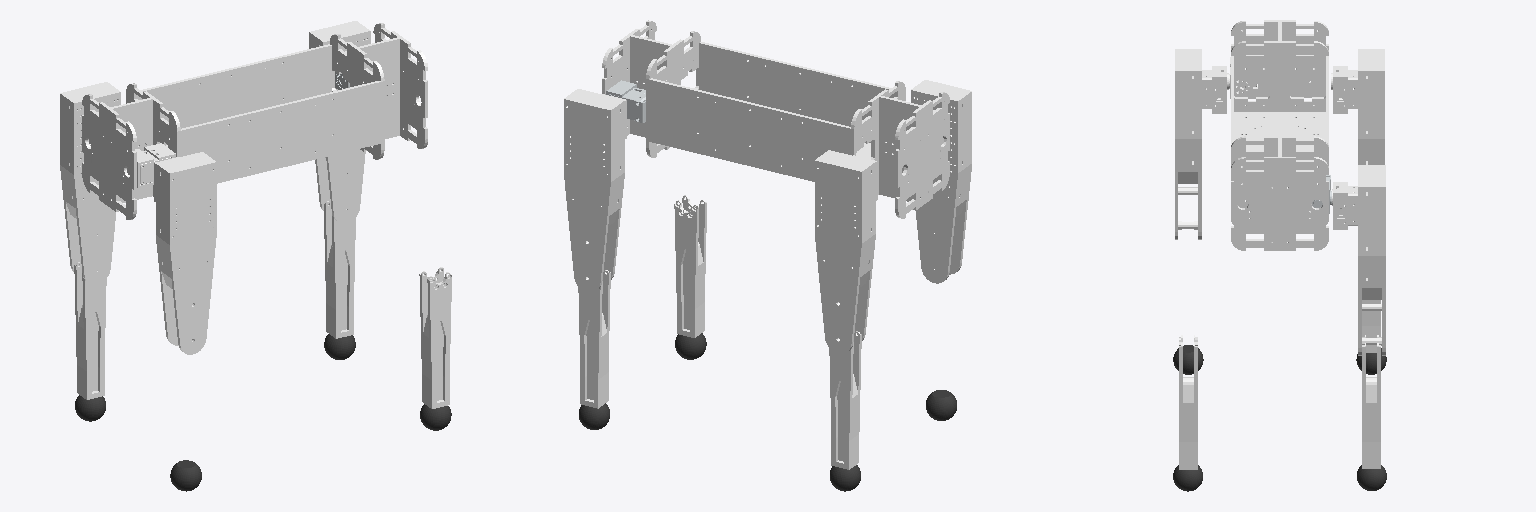
robot.urdf — GRD_URDF_v8_material:
<?xml version="1.0" encoding="utf-8"?>
<!-- This URDF was automatically created by SolidWorks to URDF Exporter! Originally created by [author] ([email redacted]) 
     Commit Version: 1.6.0-1-g15f4949  Build Version: 1.6.7594.29634
     For more information, please see http://wiki.ros.org/sw_urdf_exporter -->
<robot
  name="GRD_URDF_v8_material">
  <link
    name="base_footprint_link">
    <inertial>
      <origin
        xyz="-6.5684535257726E-07 -5.68625826943039E-16 0.331904075260688"
        rpy="0 0 0" />
      <mass
        value="0.94714877441203" />
      <inertia
        ixx="0.00156805076680093"
        ixy="-4.04417685042527E-18"
        ixz="-1.07156180552169E-09"
        iyy="0.00467978185671069"
        iyz="1.05204051443102E-18"
        izz="0.00464373853240198" />
    </inertial>
    <visual>
      <origin
        xyz="0 0 0"
        rpy="0 0 0" />
      <geometry>
        <mesh
          filename="package://GRD_URDF_v8_material/meshes/base_footprint_link.STL" />
      </geometry>
      <material
        name="">
        <color
          rgba="1 1 1 0.3" />
      </material>
    </visual>
    <collision>
      <origin
        xyz="0 0 0"
        rpy="0 0 0" />
      <geometry>
        <mesh
          filename="package://GRD_URDF_v8_material/meshes/base_footprint_link.STL" />
      </geometry>
    </collision>
  </link>
  <link
    name="base_link">
    <inertial>
      <origin
        xyz="-5.37004284930829E-07 -8.85973754038104E-16 0.0331211817986433"
        rpy="0 0 0" />
      <mass
        value="1.15852013355761" />
      <inertia
        ixx="0.00161866128869471"
        ixy="-4.05306861158348E-18"
        ixz="-1.07156180552086E-09"
        iyy="0.00471344940362746"
        iyz="1.05084288143918E-18"
        izz="0.00470124275078615" />
    </inertial>
    <visual>
      <origin
        xyz="0 0 0"
        rpy="0 0 0" />
      <geometry>
        <mesh
          filename="package://GRD_URDF_v8_material/meshes/base_link.STL" />
      </geometry>
      <material
        name="">
        <color
          rgba="1 1 1 0.3" />
      </material>
    </visual>
    <collision>
      <origin
        xyz="0 0 0"
        rpy="0 0 0" />
      <geometry>
        <mesh
          filename="package://GRD_URDF_v8_material/meshes/base_link.STL" />
      </geometry>
    </collision>
  </link>
  <joint
    name="base_link_joint"
    type="fixed">
    <origin
      xyz="0 0 0.3"
      rpy="0 0 0" />
    <parent
      link="base_footprint_link" />
    <child
      link="base_link" />
    <axis
      xyz="0 0 0" />
  </joint>
  <link
    name="FR1_link">
    <inertial>
      <origin
        xyz="0.024784 -1.0469E-05 -2.2229E-05"
        rpy="0 0 0" />
      <mass
        value="0.067553" />
      <inertia
        ixx="1.2584E-05"
        ixy="9.7813E-08"
        ixz="-1.6315E-08"
        iyy="1.514E-05"
        iyz="-4.0759E-09"
        izz="1.7075E-05" />
    </inertial>
    <visual>
      <origin
        xyz="0 0 0"
        rpy="0 0 0" />
      <geometry>
        <mesh
          filename="package://GRD_URDF_v8_material/meshes/FR1_link.STL" />
      </geometry>
      <material
        name="">
        <color
          rgba="0.89804 0.91765 0.92941 1" />
      </material>
    </visual>
    <collision>
      <origin
        xyz="0 0 0"
        rpy="0 0 0" />
      <geometry>
        <mesh
          filename="package://GRD_URDF_v8_material/meshes/FR1_link.STL" />
      </geometry>
    </collision>
  </link>
  <joint
    name="motor_front_right_hip"
    type="revolute">
    <origin
      xyz="0.1579 -0.0491 0.0385"
      rpy="0 0 0" />
    <parent
      link="base_link" />
    <child
      link="FR1_link" />
    <axis
      xyz="1 0 0" />
    <limit
      lower="-1.04"
      upper="1.04"
      effort="1000"
      velocity="0.7" />
  </joint>
  <link
    name="FR2_link">
    <inertial>
      <origin
        xyz="4.3562E-06 -0.039485 -0.070702"
        rpy="0 0 0" />
      <mass
        value="0.39532" />
      <inertia
        ixx="0.0016371"
        ixy="-1.4579E-08"
        ixz="6.2884E-08"
        iyy="0.0017598"
        iyz="-2.364E-05"
        izz="0.00015914" />
    </inertial>
    <visual>
      <origin
        xyz="0 0 0"
        rpy="0 0 0" />
      <geometry>
        <mesh
          filename="package://GRD_URDF_v8_material/meshes/FR2_link.STL" />
      </geometry>
      <material
        name="">
        <color
          rgba="1 1 1 1" />
      </material>
    </visual>
    <collision>
      <origin
        xyz="0 0 0"
        rpy="0 0 0" />
      <geometry>
        <mesh
          filename="package://GRD_URDF_v8_material/meshes/FR2_link.STL" />
      </geometry>
    </collision>
  </link>
  <joint
    name="motor_front_right_upper_leg"
    type="revolute">
    <origin
      xyz="0.0361 -0.0233999999999976 0"
      rpy="0 0 0" />
    <parent
      link="FR1_link" />
    <child
      link="FR2_link" />
    <axis
      xyz="0 1 0" />
    <limit
      lower="-1.571"
      upper="2.59"
      effort="1000"
      velocity="0.7" />
  </joint>
  <link
    name="FR3_link">
    <inertial>
      <origin
        xyz="3.7529E-08 -0.0074017 -0.10236"
        rpy="0 0 0" />
      <mass
        value="0.090352" />
      <inertia
        ixx="0.00022227"
        ixy="1.0154E-11"
        ixz="2.7851E-10"
        iyy="0.00022376"
        iyz="1.6738E-08"
        izz="1.1523E-05" />
    </inertial>
    <visual>
      <origin
        xyz="0 0 0"
        rpy="0 0 0" />
      <geometry>
        <mesh
          filename="package://GRD_URDF_v8_material/meshes/FR3_link.STL" />
      </geometry>
      <material
        name="">
        <color
          rgba="1 1 1 1" />
      </material>
    </visual>
    <collision>
      <origin
        xyz="0 0 0"
        rpy="0 0 0" />
      <geometry>
        <mesh
          filename="package://GRD_URDF_v8_material/meshes/FR3_link.STL" />
      </geometry>
    </collision>
  </link>
  <joint
    name="motor_front_right_lower_leg"
    type="revolute">
    <origin
      xyz="0 -0.0413999999999994 -0.209999999999993"
      rpy="0 0 0" />
    <parent
      link="FR2_link" />
    <child
      link="FR3_link" />
    <axis
      xyz="0 -1 0" />
    <limit
      lower="-2.9"
      upper="1.671"
      effort="1000"
      velocity="0.7" />
  </joint>
  <link
    name="front_right_foot">
    <inertial>
      <origin
        xyz="-6.6613E-16 1.4433E-15 0.0015002"
        rpy="0 0 0" />
      <mass
        value="0.032571" />
      <inertia
        ixx="5.047E-06"
        ixy="-5.0734E-22"
        ixz="1.352E-22"
        iyy="5.0467E-06"
        iyz="-1.4225E-21"
        izz="5.3157E-06" />
    </inertial>
    <visual>
      <origin
        xyz="0 0 0"
        rpy="0 0 0" />
      <geometry>
        <mesh
          filename="package://GRD_URDF_v8_material/meshes/front_right_foot.STL" />
      </geometry>
      <material
        name="">
        <color
          rgba="0.29804 0.29804 0.29804 1" />
      </material>
    </visual>
    <collision>
      <origin
        xyz="0 0 0"
        rpy="0 0 0" />
      <geometry>
        <mesh
          filename="package://GRD_URDF_v8_material/meshes/front_right_foot.STL" />
      </geometry>
    </collision>
  </link>
  <joint
    name="front_right_leg_foot"
    type="fixed">
    <origin
      xyz="0 -0.00739999999999999 -0.198000586455477"
      rpy="0 0 0" />
    <parent
      link="FR3_link" />
    <child
      link="front_right_foot" />
    <axis
      xyz="0 0 0" />
  </joint>
  <link
    name="FL4_link">
    <inertial>
      <origin
        xyz="0.0247841447425314 1.04692997031988E-05 2.22286183791942E-05"
        rpy="0 0 0" />
      <mass
        value="0.0675532787220811" />
      <inertia
        ixx="1.25839581231577E-05"
        ixy="-9.78129344167742E-08"
        ixz="1.63152405935888E-08"
        iyy="1.5140307434958E-05"
        iyz="-4.07589457904991E-09"
        izz="1.70746458531424E-05" />
    </inertial>
    <visual>
      <origin
        xyz="0 0 0"
        rpy="0 0 0" />
      <geometry>
        <mesh
          filename="package://GRD_URDF_v8_material/meshes/FL4_link.STL" />
      </geometry>
      <material
        name="">
        <color
          rgba="0.898039215686275 0.917647058823529 0.929411764705882 1" />
      </material>
    </visual>
    <collision>
      <origin
        xyz="0 0 0"
        rpy="0 0 0" />
      <geometry>
        <mesh
          filename="package://GRD_URDF_v8_material/meshes/FL4_link.STL" />
      </geometry>
    </collision>
  </link>
  <joint
    name="motor_front_left_hip"
    type="revolute">
    <origin
      xyz="0.1579 0.0490999999999959 0.0387999999999899"
      rpy="0 0 0" />
    <parent
      link="base_link" />
    <child
      link="FL4_link" />
    <axis
      xyz="1 0 0" />
    <limit
      lower="-1.04"
      upper="1.04"
      effort="1000"
      velocity="0.7" />
  </joint>
  <link
    name="FL5_link">
    <inertial>
      <origin
        xyz="-4.35616069133227E-06 0.0394850128833005 -0.0707022962699911"
        rpy="0 0 0" />
      <mass
        value="0.395321397887757" />
      <inertia
        ixx="0.00163713814608113"
        ixy="-1.45788089578397E-08"
        ixz="-6.28841253115549E-08"
        iyy="0.00175975062383322"
        iyz="2.36404618665139E-05"
        izz="0.000159141442838076" />
    </inertial>
    <visual>
      <origin
        xyz="0 0 0"
        rpy="0 0 0" />
      <geometry>
        <mesh
          filename="package://GRD_URDF_v8_material/meshes/FL5_link.STL" />
      </geometry>
      <material
        name="">
        <color
          rgba="1 1 1 1" />
      </material>
    </visual>
    <collision>
      <origin
        xyz="0 0 0"
        rpy="0 0 0" />
      <geometry>
        <mesh
          filename="package://GRD_URDF_v8_material/meshes/FL5_link.STL" />
      </geometry>
    </collision>
  </link>
  <joint
    name="motor_front_left_upper_leg"
    type="revolute">
    <origin
      xyz="0.0360999999999954 0.0234000000000044 0"
      rpy="0 0 0" />
    <parent
      link="FL4_link" />
    <child
      link="FL5_link" />
    <axis
      xyz="0 -1 0" />
    <limit
      lower="-1.571"
      upper="2.59"
      effort="1000"
      velocity="0.7" />
  </joint>
  <link
    name="FL6_link">
    <inertial>
      <origin
        xyz="3.75285352793853E-08 0.00739826798017804 -0.102361671813913"
        rpy="0 0 0" />
      <mass
        value="0.0903520455444552" />
      <inertia
        ixx="0.000222269756294016"
        ixy="1.01536103196166E-11"
        ixz="2.78508257222559E-10"
        iyy="0.000223759447255601"
        iyz="1.67376488552958E-08"
        izz="1.15226778599831E-05" />
    </inertial>
    <visual>
      <origin
        xyz="0 0 0"
        rpy="0 0 0" />
      <geometry>
        <mesh
          filename="package://GRD_URDF_v8_material/meshes/FL6_link.STL" />
      </geometry>
      <material
        name="">
        <color
          rgba="1 1 1 1" />
      </material>
    </visual>
    <collision>
      <origin
        xyz="0 0 0"
        rpy="0 0 0" />
      <geometry>
        <mesh
          filename="package://GRD_URDF_v8_material/meshes/FL6_link.STL" />
      </geometry>
    </collision>
  </link>
  <joint
    name="motor_front_left_lower_leg"
    type="revolute">
    <origin
      xyz="0 0.0414000000000007 -0.209999999999995"
      rpy="0 0 0" />
    <parent
      link="FL5_link" />
    <child
      link="FL6_link" />
    <axis
      xyz="0 1 0" />
    <limit
      lower="-2.9"
      upper="1.671"
      effort="1000"
      velocity="0.7" />
  </joint>
  <link
    name="front_left_foot">
    <inertial>
      <origin
        xyz="2.77555756156289E-17 3.60822483003176E-16 0.00150018449078348"
        rpy="0 0 0" />
      <mass
        value="0.0325711189299211" />
      <inertia
        ixx="5.04695257424751E-06"
        ixy="-4.8959115759098E-24"
        ixz="-1.98212390450565E-21"
        iyy="5.04670813748758E-06"
        iyz="6.91248630705877E-22"
        izz="5.31572382785122E-06" />
    </inertial>
    <visual>
      <origin
        xyz="0 0 0"
        rpy="0 0 0" />
      <geometry>
        <mesh
          filename="package://GRD_URDF_v8_material/meshes/front_left_foot.STL" />
      </geometry>
      <material
        name="">
        <color
          rgba="0.298039215686275 0.298039215686275 0.298039215686275 1" />
      </material>
    </visual>
    <collision>
      <origin
        xyz="0 0 0"
        rpy="0 0 0" />
      <geometry>
        <mesh
          filename="package://GRD_URDF_v8_material/meshes/front_left_foot.STL" />
      </geometry>
    </collision>
  </link>
  <joint
    name="front_left_leg_foot"
    type="fixed">
    <origin
      xyz="0 0.00740000000000136 -0.198000586455477"
      rpy="0 0 0" />
    <parent
      link="FL6_link" />
    <child
      link="front_left_foot" />
    <axis
      xyz="0 0 0" />
  </joint>
  <link
    name="RR7_link">
    <inertial>
      <origin
        xyz="-0.0236063085699754 0.000631885494629253 6.84388656857493E-12"
        rpy="0 0 0" />
      <mass
        value="0.073619269309767" />
      <inertia
        ixx="1.46576594061014E-05"
        ixy="4.64656371603288E-08"
        ixz="-3.57441089268569E-08"
        iyy="1.73197677200056E-05"
        iyz="3.92112851912774E-10"
        izz="1.81046682669036E-05" />
    </inertial>
    <visual>
      <origin
        xyz="0 0 0"
        rpy="0 0 0" />
      <geometry>
        <mesh
          filename="package://GRD_URDF_v8_material/meshes/RR7_link.STL" />
      </geometry>
      <material
        name="">
        <color
          rgba="1 1 1 1" />
      </material>
    </visual>
    <collision>
      <origin
        xyz="0 0 0"
        rpy="0 0 0" />
      <geometry>
        <mesh
          filename="package://GRD_URDF_v8_material/meshes/RR7_link.STL" />
      </geometry>
    </collision>
  </link>
  <joint
    name="motor_back_right_hip"
    type="revolute">
    <origin
      xyz="-0.157900000000004 -0.0491000000000027 0.0384999999999962"
      rpy="0 0 0" />
    <parent
      link="base_link" />
    <child
      link="RR7_link" />
    <axis
      xyz="-1 0 0" />
    <limit
      lower="-1.04"
      upper="1.04"
      effort="1000"
      velocity="0.7" />
  </joint>
  <link
    name="RR8_link">
    <inertial>
      <origin
        xyz="4.35616069077716E-06 -0.0394850128832991 -0.0707022962699928"
        rpy="0 0 0" />
      <mass
        value="0.395321397887757" />
      <inertia
        ixx="0.00163713814608113"
        ixy="-1.45788089571798E-08"
        ixz="6.28841253106135E-08"
        iyy="0.00175975062383322"
        iyz="-2.36404618665226E-05"
        izz="0.000159141442838076" />
    </inertial>
    <visual>
      <origin
        xyz="0 0 0"
        rpy="0 0 0" />
      <geometry>
        <mesh
          filename="package://GRD_URDF_v8_material/meshes/RR8_link.STL" />
      </geometry>
      <material
        name="">
        <color
          rgba="1 1 1 1" />
      </material>
    </visual>
    <collision>
      <origin
        xyz="0 0 0"
        rpy="0 0 0" />
      <geometry>
        <mesh
          filename="package://GRD_URDF_v8_material/meshes/RR8_link.STL" />
      </geometry>
    </collision>
  </link>
  <joint
    name="motor_back_right_upper_leg"
    type="revolute">
    <origin
      xyz="-0.0128499999999998 -0.0230999999999985 0"
      rpy="0 0 0" />
    <parent
      link="RR7_link" />
    <child
      link="RR8_link" />
    <axis
      xyz="0 1 0" />
    <limit
      lower="-1.571"
      upper="2.59"
      effort="1000"
      velocity="0.7" />
  </joint>
  <link
    name="RR9_link">
    <inertial>
      <origin
        xyz="3.75285321152496E-08 -0.00740173201982233 -0.102361671813917"
        rpy="0 0 0" />
      <mass
        value="0.0903520455444551" />
      <inertia
        ixx="0.000222269756294015"
        ixy="1.01536103203937E-11"
        ixz="2.78508257250272E-10"
        iyy="0.0002237594472556"
        iyz="1.67376488552685E-08"
        izz="1.15226778599831E-05" />
    </inertial>
    <visual>
      <origin
        xyz="0 0 0"
        rpy="0 0 0" />
      <geometry>
        <mesh
          filename="package://GRD_URDF_v8_material/meshes/RR9_link.STL" />
      </geometry>
      <material
        name="">
        <color
          rgba="1 1 1 1" />
      </material>
    </visual>
    <collision>
      <origin
        xyz="0 0 0"
        rpy="0 0 0" />
      <geometry>
        <mesh
          filename="package://GRD_URDF_v8_material/meshes/RR9_link.STL" />
      </geometry>
    </collision>
  </link>
  <joint
    name="motor_back_right_lower_leg"
    type="revolute">
    <origin
      xyz="0 -0.0413999999999989 -0.209999999999994"
      rpy="0 0 0" />
    <parent
      link="RR8_link" />
    <child
      link="RR9_link" />
    <axis
      xyz="0 -1 0" />
    <limit
      lower="-2.9"
      upper="1.671"
      effort="1000"
      velocity="0.7" />
  </joint>
  <link
    name="back_right_foot">
    <inertial>
      <origin
        xyz="-7.11097847272413E-14 -0.242000000000003 0.00150018449077555"
        rpy="0 0 0" />
      <mass
        value="0.032571118929921" />
      <inertia
        ixx="5.0469525742475E-06"
        ixy="2.1327978782839E-21"
        ixz="-1.6668475799677E-21"
        iyy="5.04670813748758E-06"
        iyz="-1.71150747579276E-21"
        izz="5.31572382785121E-06" />
    </inertial>
    <visual>
      <origin
        xyz="0 0 0"
        rpy="0 0 0" />
      <geometry>
        <mesh
          filename="package://GRD_URDF_v8_material/meshes/back_right_foot.STL" />
      </geometry>
      <material
        name="">
        <color
          rgba="0.298039215686275 0.298039215686275 0.298039215686275 1" />
      </material>
    </visual>
    <collision>
      <origin
        xyz="0 0 0"
        rpy="0 0 0" />
      <geometry>
        <mesh
          filename="package://GRD_URDF_v8_material/meshes/back_right_foot.STL" />
      </geometry>
    </collision>
  </link>
  <joint
    name="back_right_leg_foot"
    type="fixed">
    <origin
      xyz="0 0.234600000000003 -0.198000586455473"
      rpy="0 0 0" />
    <parent
      link="RR9_link" />
    <child
      link="back_right_foot" />
    <axis
      xyz="0 0 0" />
  </joint>
  <link
    name="RL10_link">
    <inertial>
      <origin
        xyz="-0.0236063085699692 -0.00063188549463164 -6.82938428031576E-12"
        rpy="0 0 0" />
      <mass
        value="0.073619269309767" />
      <inertia
        ixx="1.46576594061014E-05"
        ixy="-4.64656371603235E-08"
        ixz="3.57441089268562E-08"
        iyy="1.73197677200056E-05"
        iyz="3.92112851920474E-10"
        izz="1.81046682669036E-05" />
    </inertial>
    <visual>
      <origin
        xyz="0 0 0"
        rpy="0 0 0" />
      <geometry>
        <mesh
          filename="package://GRD_URDF_v8_material/meshes/RL10_link.STL" />
      </geometry>
      <material
        name="">
        <color
          rgba="1 1 1 1" />
      </material>
    </visual>
    <collision>
      <origin
        xyz="0 0 0"
        rpy="0 0 0" />
      <geometry>
        <mesh
          filename="package://GRD_URDF_v8_material/meshes/RL10_link.STL" />
      </geometry>
    </collision>
  </link>
  <joint
    name="motor_back_left_hip"
    type="revolute">
    <origin
      xyz="-0.157900000000008 0.0491000000000026 0.0384999999999878"
      rpy="0 0 0" />
    <parent
      link="base_link" />
    <child
      link="RL10_link" />
    <axis
      xyz="-1 0 0" />
    <limit
      lower="-1.04"
      upper="1.04"
      effort="1000"
      velocity="0.7" />
  </joint>
  <link
    name="RL11_link">
    <inertial>
      <origin
        xyz="-4.35616068608646E-06 0.0394850128832992 -0.0707022962699932"
        rpy="0 0 0" />
      <mass
        value="0.395321397887756" />
      <inertia
        ixx="0.00163713814608113"
        ixy="-1.45788089564926E-08"
        ixz="-6.28841253096486E-08"
        iyy="0.00175975062383321"
        iyz="2.364046186652E-05"
        izz="0.000159141442838075" />
    </inertial>
    <visual>
      <origin
        xyz="0 0 0"
        rpy="0 0 0" />
      <geometry>
        <mesh
          filename="package://GRD_URDF_v8_material/meshes/RL11_link.STL" />
      </geometry>
      <material
        name="">
        <color
          rgba="1 1 1 0.3" />
      </material>
    </visual>
    <collision>
      <origin
        xyz="0 0 0"
        rpy="0 0 0" />
      <geometry>
        <mesh
          filename="package://GRD_URDF_v8_material/meshes/RL11_link.STL" />
      </geometry>
    </collision>
  </link>
  <joint
    name="motor_back_left_upper_leg"
    type="revolute">
    <origin
      xyz="-0.0128500000000024 0.0230999999999986 0"
      rpy="0 0 0" />
    <parent
      link="RL10_link" />
    <child
      link="RL11_link" />
    <axis
      xyz="0 -1 0" />
    <limit
      lower="-1.571"
      upper="2.59"
      effort="1000"
      velocity="0.7" />
  </joint>
  <link
    name="RL12_link">
    <inertial>
      <origin
        xyz="3.75285400533443E-08 0.00739826798017364 -0.10236167181392"
        rpy="0 0 0" />
      <mass
        value="0.090352045544455" />
      <inertia
        ixx="0.000222269756294015"
        ixy="1.01536103178863E-11"
        ixz="2.78508257228715E-10"
        iyy="0.0002237594472556"
        iyz="1.67376488553293E-08"
        izz="1.15226778599831E-05" />
    </inertial>
    <visual>
      <origin
        xyz="0 0 0"
        rpy="0 0 0" />
      <geometry>
        <mesh
          filename="package://GRD_URDF_v8_material/meshes/RL12_link.STL" />
      </geometry>
      <material
        name="">
        <color
          rgba="1 1 1 1" />
      </material>
    </visual>
    <collision>
      <origin
        xyz="0 0 0"
        rpy="0 0 0" />
      <geometry>
        <mesh
          filename="package://GRD_URDF_v8_material/meshes/RL12_link.STL" />
      </geometry>
    </collision>
  </link>
  <joint
    name="motor_back_left_lower_leg"
    type="revolute">
    <origin
      xyz="0 0.0414000000000018 -0.209999999999994"
      rpy="0 0 0" />
    <parent
      link="RL11_link" />
    <child
      link="RL12_link" />
    <axis
      xyz="0 1 0" />
    <limit
      lower="-2.9"
      upper="1.671"
      effort="1000"
      velocity="0.7" />
  </joint>
  <link
    name="back_left_foot">
    <inertial>
      <origin
        xyz="4.6074255521944E-15 -4.7045700668491E-15 0.00150018449077621"
        rpy="0 0 0" />
      <mass
        value="0.0325711189299211" />
      <inertia
        ixx="5.04695257424751E-06"
        ixy="3.22003305032137E-22"
        ixz="-6.305518543915E-22"
        iyy="5.04670813748758E-06"
        iyz="9.63773792640485E-22"
        izz="5.31572382785122E-06" />
    </inertial>
    <visual>
      <origin
        xyz="0 0 0"
        rpy="0 0 0" />
      <geometry>
        <mesh
          filename="package://GRD_URDF_v8_material/meshes/back_left_foot.STL" />
      </geometry>
      <material
        name="">
        <color
          rgba="0.298039215686275 0.298039215686275 0.298039215686275 1" />
      </material>
    </visual>
    <collision>
      <origin
        xyz="0 0 0"
        rpy="0 0 0" />
      <geometry>
        <mesh
          filename="package://GRD_URDF_v8_material/meshes/back_left_foot.STL" />
      </geometry>
    </collision>
  </link>
  <joint
    name="back_left_leg_foot"
    type="fixed">
    <origin
      xyz="0 0.00739999999999999 -0.198000586455477"
      rpy="0 0 0" />
    <parent
      link="RL12_link" />
    <child
      link="back_left_foot" />
    <axis
      xyz="0 0 0" />
  </joint>
</robot>

--- What the picture shows (computed from the rendered views, not written in the file) ---
The picture shows the robot from 3 angles, left to right: view 1: azimuth 30°, elevation 25°; view 2: azimuth 150°, elevation 25°; view 3: azimuth 270°, elevation 25°; orthographic projection.
Model GRD_URDF_v8_material with 18 links and 17 joints (12 revolute, 5 fixed), rooted at base_footprint_link, posed every joint at zero.
Visible links, largest first — view 1: base_footprint_link, RR8_link, RL11_link, FR3_link, FL5_link, RL12_link, FL6_link, RR7_link, back_right_foot, front_right_foot, front_left_foot, back_left_foot; view 2: base_footprint_link, FL5_link, RL11_link, RR8_link, FR3_link, FL6_link, RL12_link, FL4_link, back_right_foot, front_right_foot, front_left_foot, back_left_foot; view 3: base_footprint_link, FL5_link, RR8_link, RL11_link, FR3_link, FL6_link, RL12_link, front_left_foot, front_right_foot, RR7_link.
Link boxes in pixels (x1,y1,x2,y2): base_footprint_link: (82, 23, 427, 219); RR8_link: (154, 152, 216, 354); RL11_link: (60, 82, 120, 284); FR3_link: (419, 267, 451, 408); FL5_link: (309, 21, 370, 223); RL12_link: (74, 262, 106, 399); FL6_link: (324, 201, 355, 338); RR7_link: (127, 143, 175, 187); back_right_foot: (170, 460, 201, 491); front_right_foot: (420, 404, 451, 430); front_left_foot: (324, 334, 355, 359); back_left_foot: (75, 395, 105, 421); base_footprint_link: (602, 20, 949, 218); FL5_link: (564, 89, 626, 292); RL11_link: (815, 150, 877, 353); RR8_link: (911, 80, 971, 283); FR3_link: (674, 195, 706, 337); FL6_link: (578, 270, 610, 408); RL12_link: (829, 331, 861, 469); FL4_link: (606, 80, 645, 122); back_right_foot: (926, 390, 956, 420); front_right_foot: (675, 333, 706, 359); front_left_foot: (579, 403, 609, 429); back_left_foot: (830, 465, 860, 491); base_footprint_link: (1231, 20, 1328, 250); FL5_link: (1332, 165, 1385, 355); RR8_link: (1175, 49, 1228, 239); RL11_link: (1331, 49, 1384, 164); FR3_link: (1179, 335, 1197, 469); FL6_link: (1362, 335, 1380, 468); RL12_link: (1362, 300, 1380, 352); front_left_foot: (1357, 465, 1386, 490); front_right_foot: (1173, 465, 1202, 491); RR7_link: (1229, 57, 1257, 98).
Size in the robot's own frame: 0.4439 by 0.2825 by 0.4938 metres.
13 mesh visuals loaded from 18 distinct referenced files (13 binary STL); not drawn: 5 (reference not matched to a file when rendering).